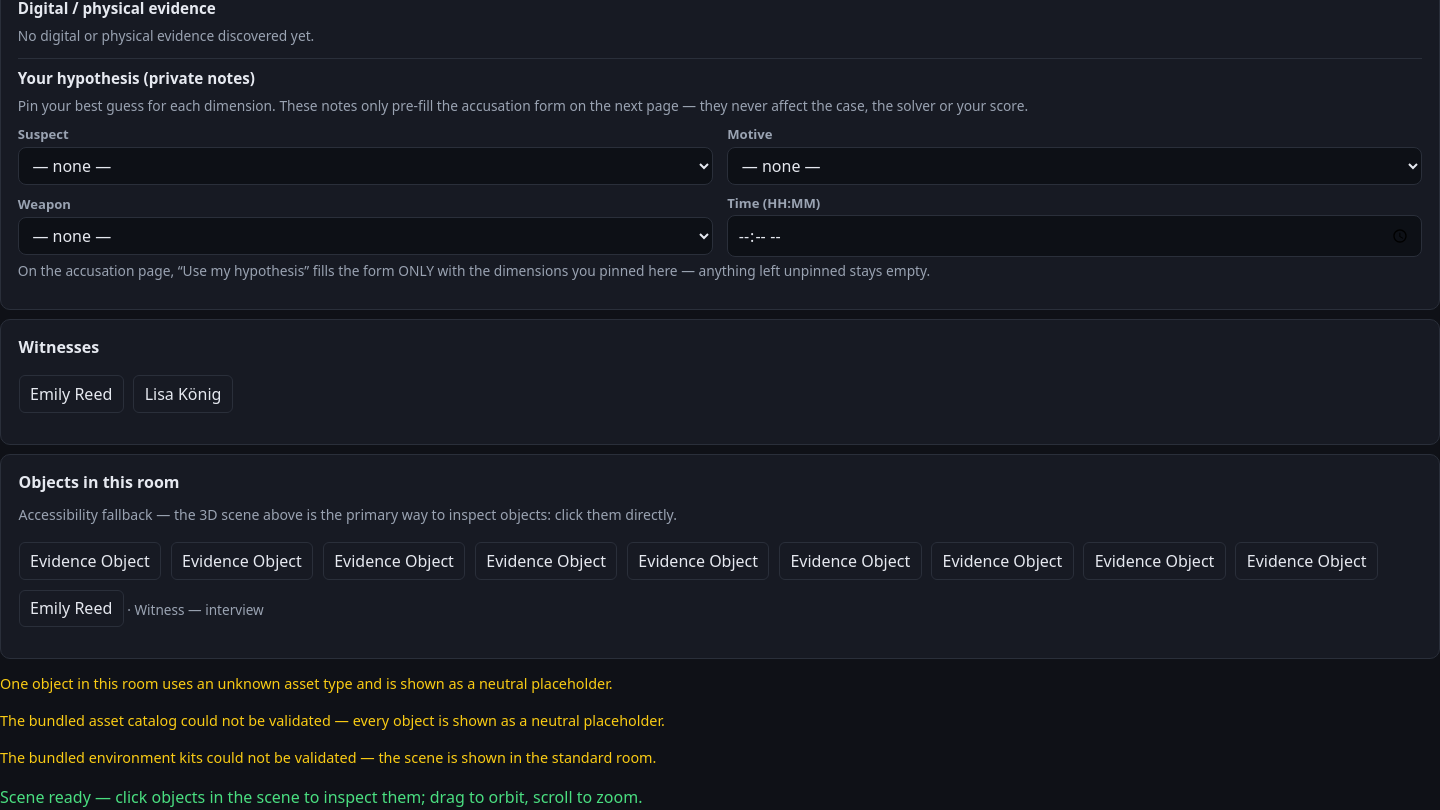
Test case: Phase 23 — /scene witness visibility (ON_SCENE + REMOTE_STATEMENT) › ON_SCENE: Emily has a pickable person object whose button shows her NAME and opens the interview panel (not the inspect flow)
(page scrolled)
Click the button "Emily Reed" next to "· Witness — interview". click: {"x": 71, "y": 608}
box: 19,590 -> 124,628
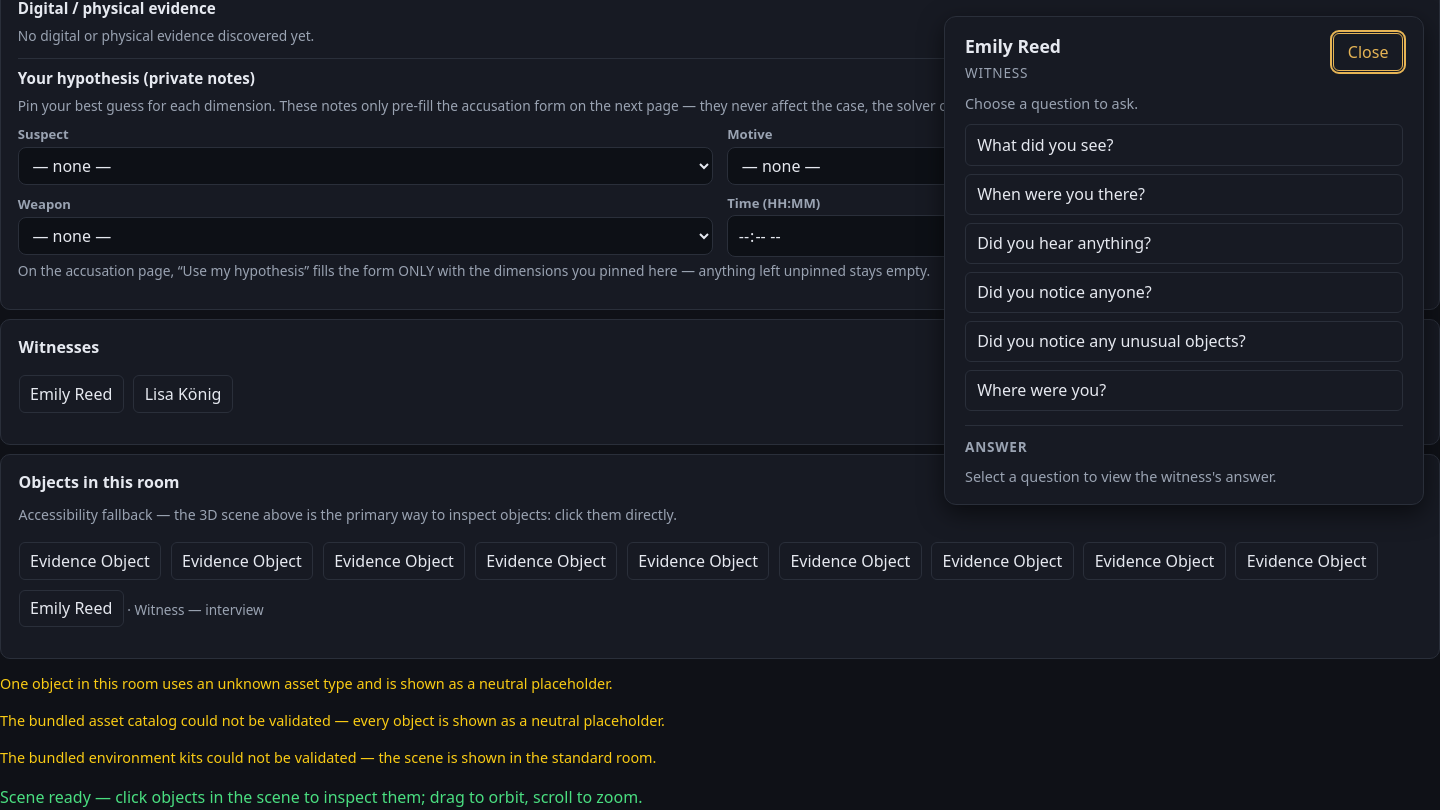
Now the dialog with test id "witness-panel" is shown, box 944,16 -> 1424,505
Now the heading with test id "witness-panel-name" reads "Emily Reed", box 965,34 -> 1061,58
